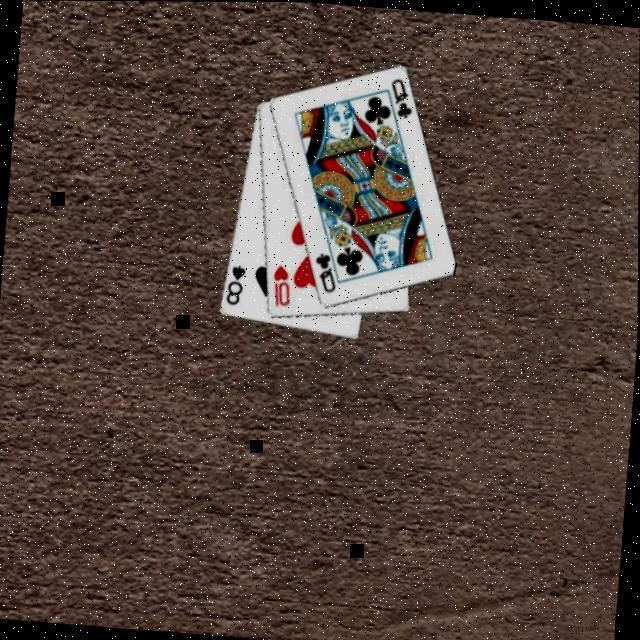10H: (269, 258, 296, 308)
8S: (224, 258, 249, 306)
QC: (386, 72, 418, 120), (311, 247, 342, 294)
